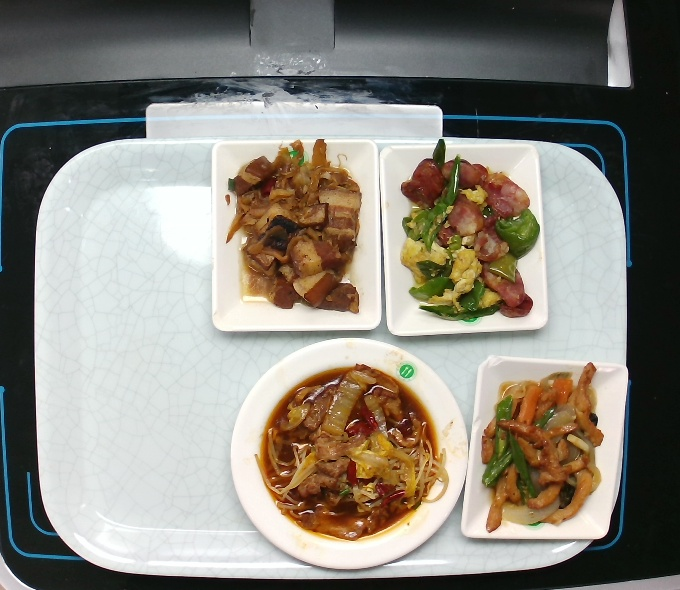wcq-HongShaoRou: (224, 140, 363, 314)
wcq-QingJiaoJiDanChaoDaChang: (399, 143, 541, 325)
wcq-QingJiaoRouSi: (478, 363, 604, 534)
wcq-ShuiZhuRouPian: (261, 365, 439, 539)
